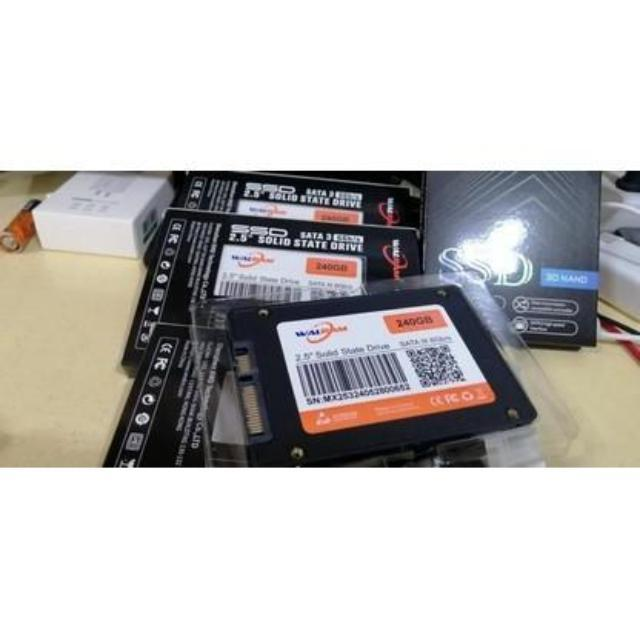DISK: (225, 296, 543, 464)
